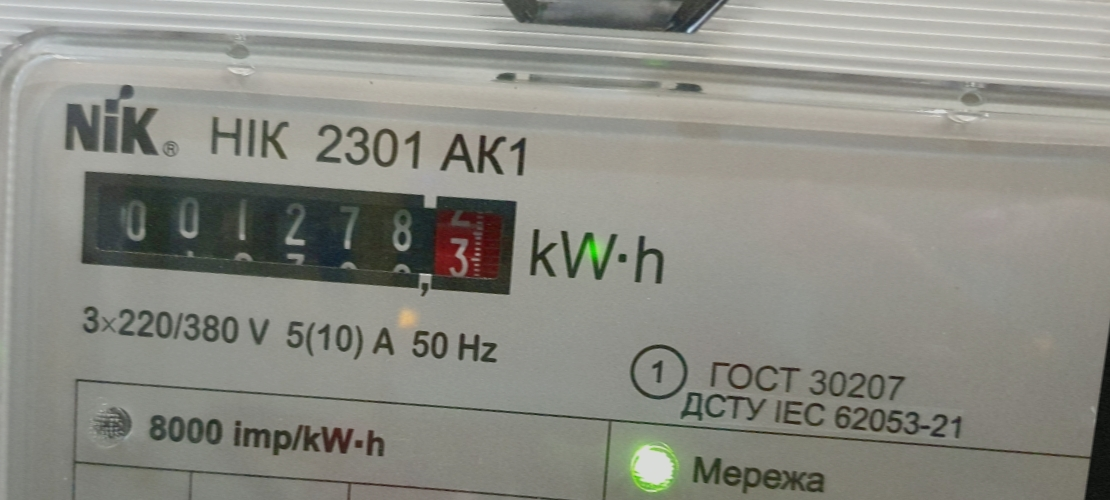0: (118, 191, 151, 242), (170, 189, 202, 239)
1: (228, 191, 253, 239)
2: (277, 196, 310, 246), (445, 203, 471, 226)
3: (440, 230, 472, 277)
7: (330, 199, 358, 248)
8: (385, 203, 415, 250)
screen: (54, 122, 539, 336)
